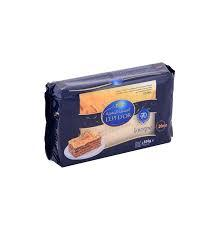lasagne: (48, 62, 171, 169)
